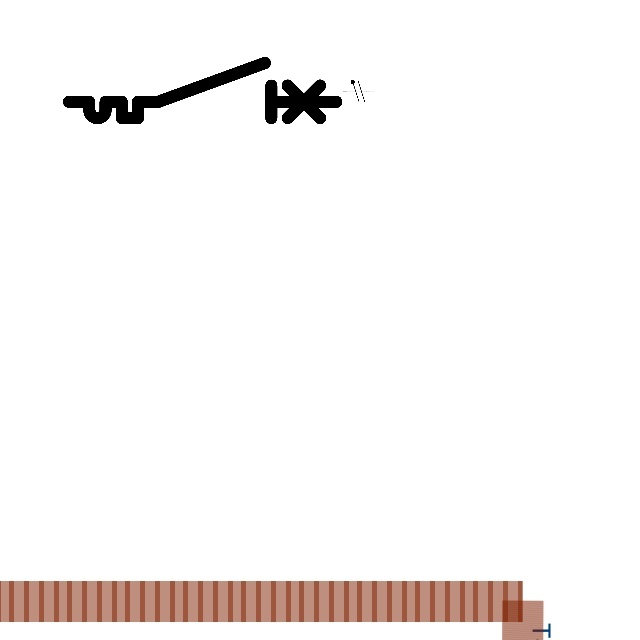interruptor_termomagnetico: (62, 56, 343, 125)
